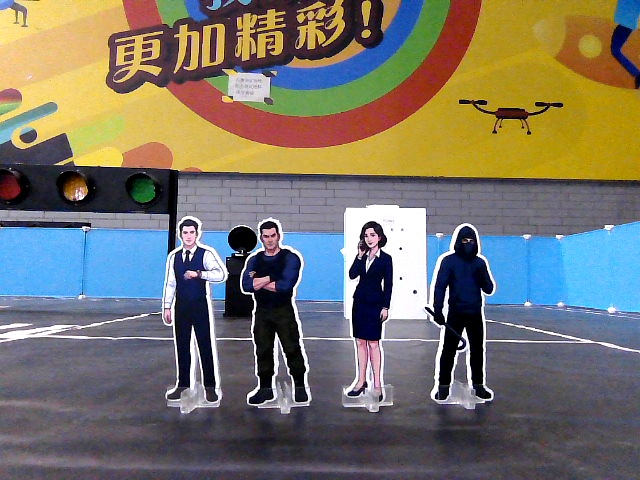community_person: (152, 210, 231, 416), (335, 215, 406, 418)
outsider: (236, 212, 321, 421), (421, 212, 507, 417)
